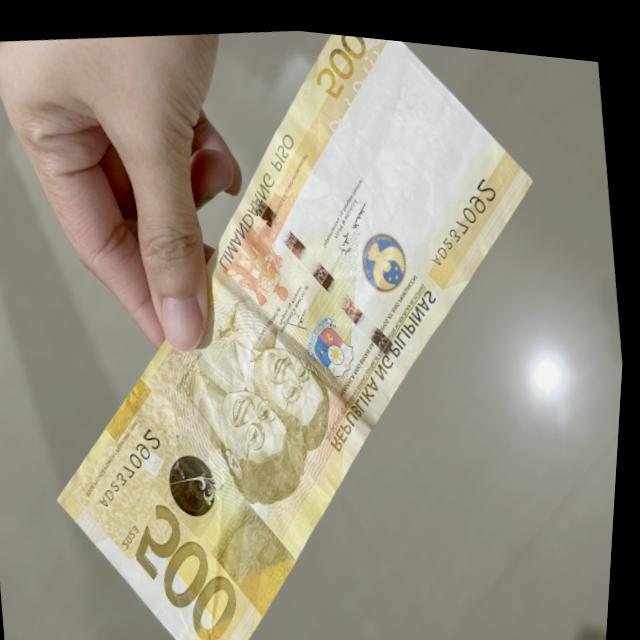concealed_value: (220, 492, 296, 603)
optically_variable_device: (169, 446, 229, 525)
see_through_mark: (319, 34, 393, 145)
serial_number: (420, 154, 510, 268), (87, 413, 177, 512)
value: (130, 490, 250, 640)
